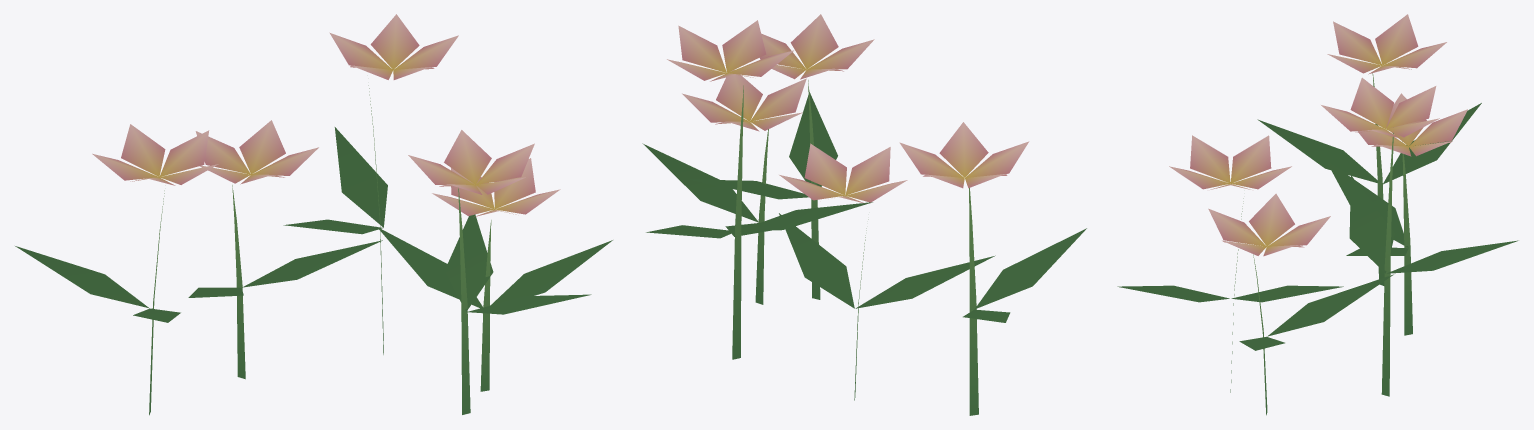
Rendered from flowers_coral.glb.
3 views of the same model, side by side, from view 1: azimuth 30°, elevation 25°; view 2: azimuth 150°, elevation 25°; view 3: azimuth 270°, elevation 25° (orthographic). The views are drawn at different scales.
Visible parts, largest first — view 1: Flowers; view 2: Flowers; view 3: Flowers.
Part boxes in pixels (left/top/right/bottom): Flowers: left=15, top=14, right=612, bottom=415; Flowers: left=642, top=14, right=1086, bottom=415; Flowers: left=1117, top=14, right=1518, bottom=415.
Bounding box in the file's own units: 1.02 × 0.6256 × 0.7712.
